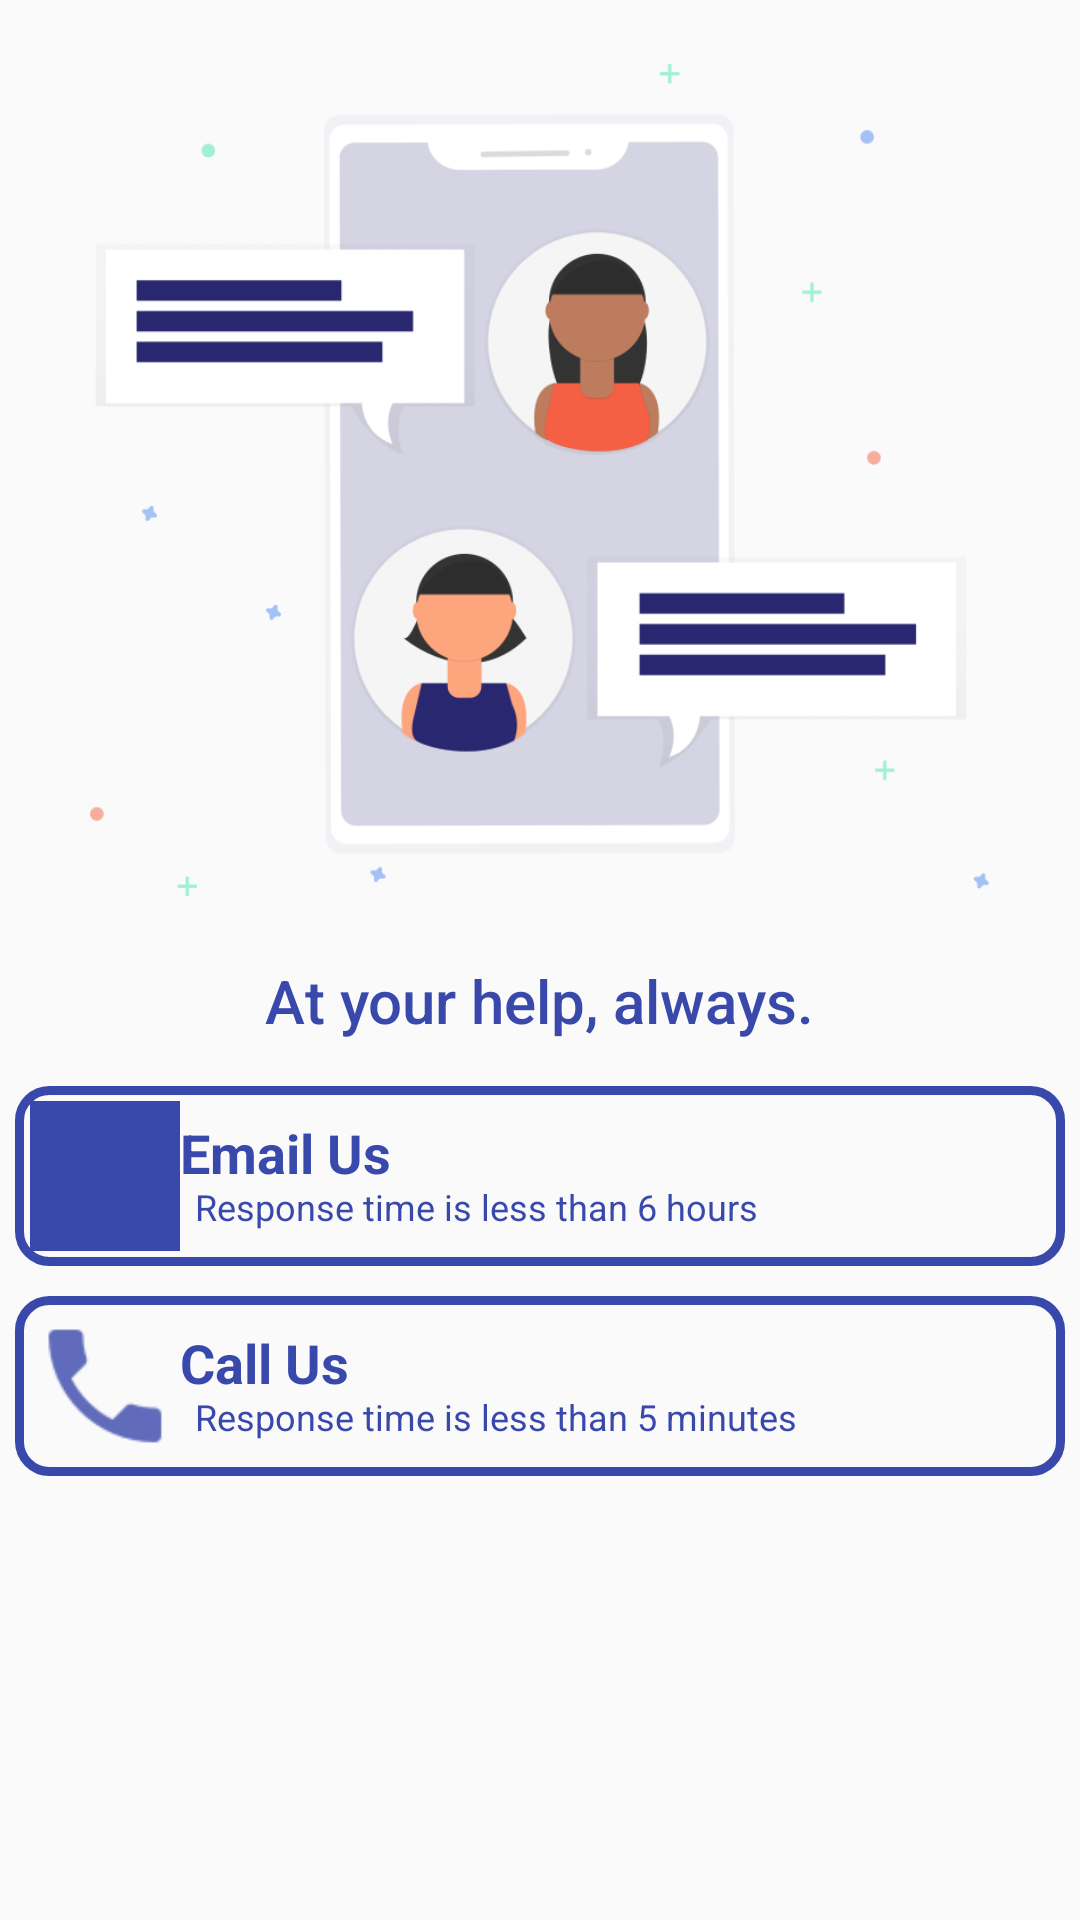

Where icons sit on this 1080x1920 app screen, as (x1, y1, x2, y2):
contact us phone pop: (48, 1329, 162, 1443)
